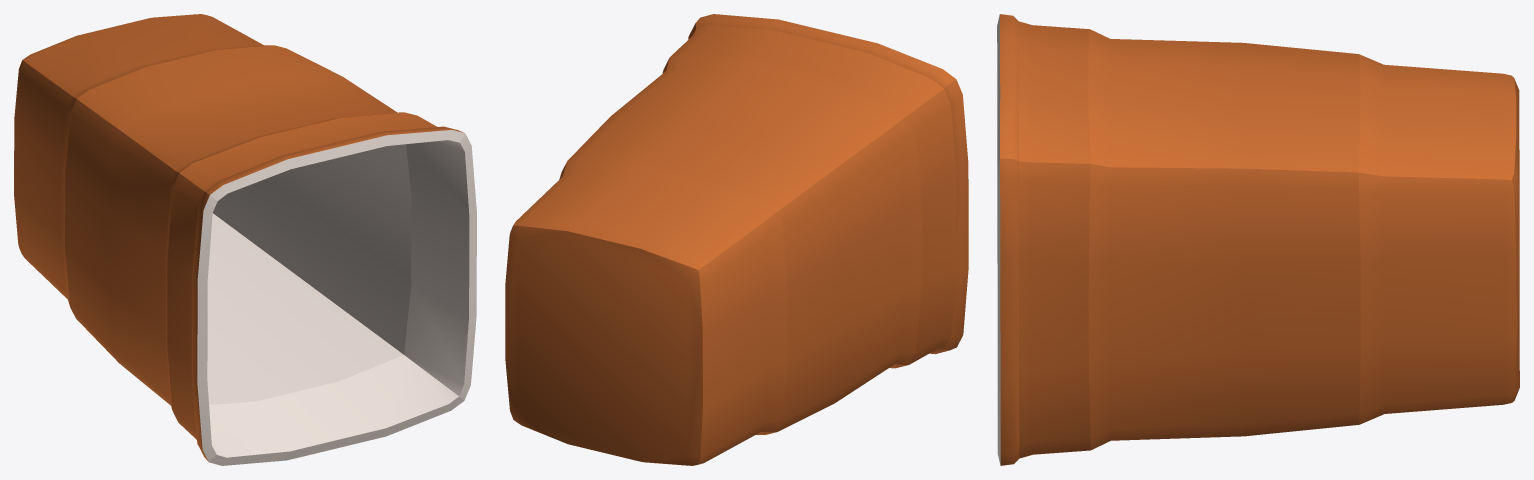
File: solo cup.glb
The picture shows the model from 3 angles, left to right: view 1: azimuth 30°, elevation 25°; view 2: azimuth 150°, elevation 25°; view 3: azimuth 270°, elevation 25°; orthographic projection. The views are drawn at different scales.
Parts seen in each view (by area): view 1: SoloCup_LOD0; view 2: SoloCup_LOD0; view 3: SoloCup_LOD0.
Part boxes in pixels (box(x1,y1,x2,y2)): SoloCup_LOD0: box(14, 14, 476, 465); SoloCup_LOD0: box(505, 14, 968, 465); SoloCup_LOD0: box(997, 14, 1519, 465).
Bounding box in the file's own units: 0.1272 × 0.131 × 0.1789.
1 material, 1 textured.
